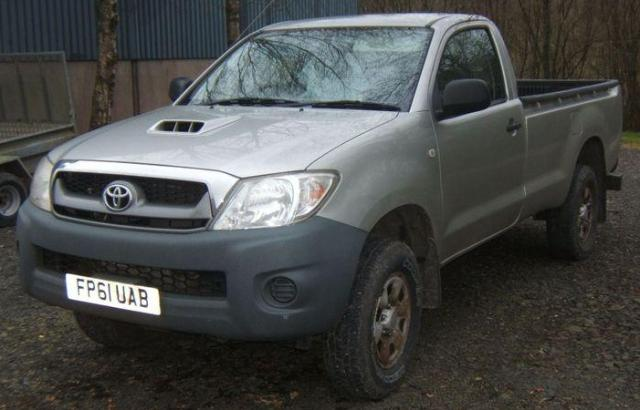pickup-truck: (14, 11, 624, 401)
